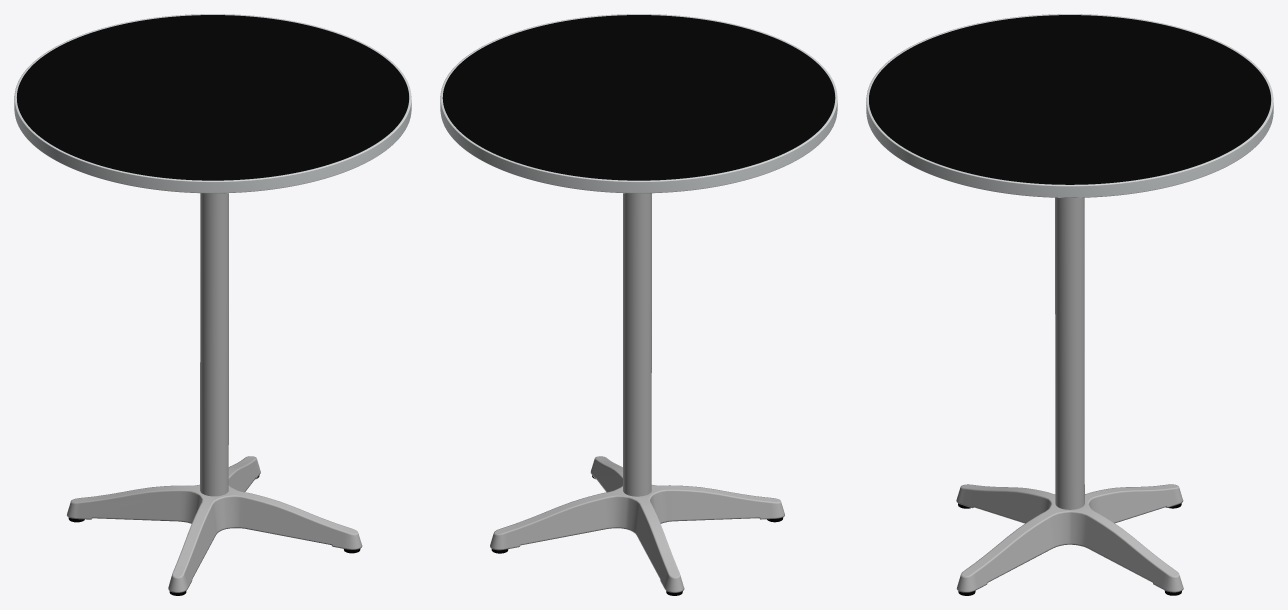
3 renders of one model, left to right at view 1: azimuth 30°, elevation 25°; view 2: azimuth 150°, elevation 25°; view 3: azimuth 270°, elevation 25°, orthographic. The views are drawn at different scales.
Parts seen in each view (by area): view 1: polySurface101; view 2: polySurface101; view 3: polySurface101.
Boxes of the visible parts, x1,y1,x2,y2 form: polySurface101: [14, 14, 411, 595]; polySurface101: [440, 14, 837, 595]; polySurface101: [866, 14, 1273, 595].
Size of the model in its own units: 0.6 by 0.73 by 0.6.
Materials: 3 (2 with a texture image).
